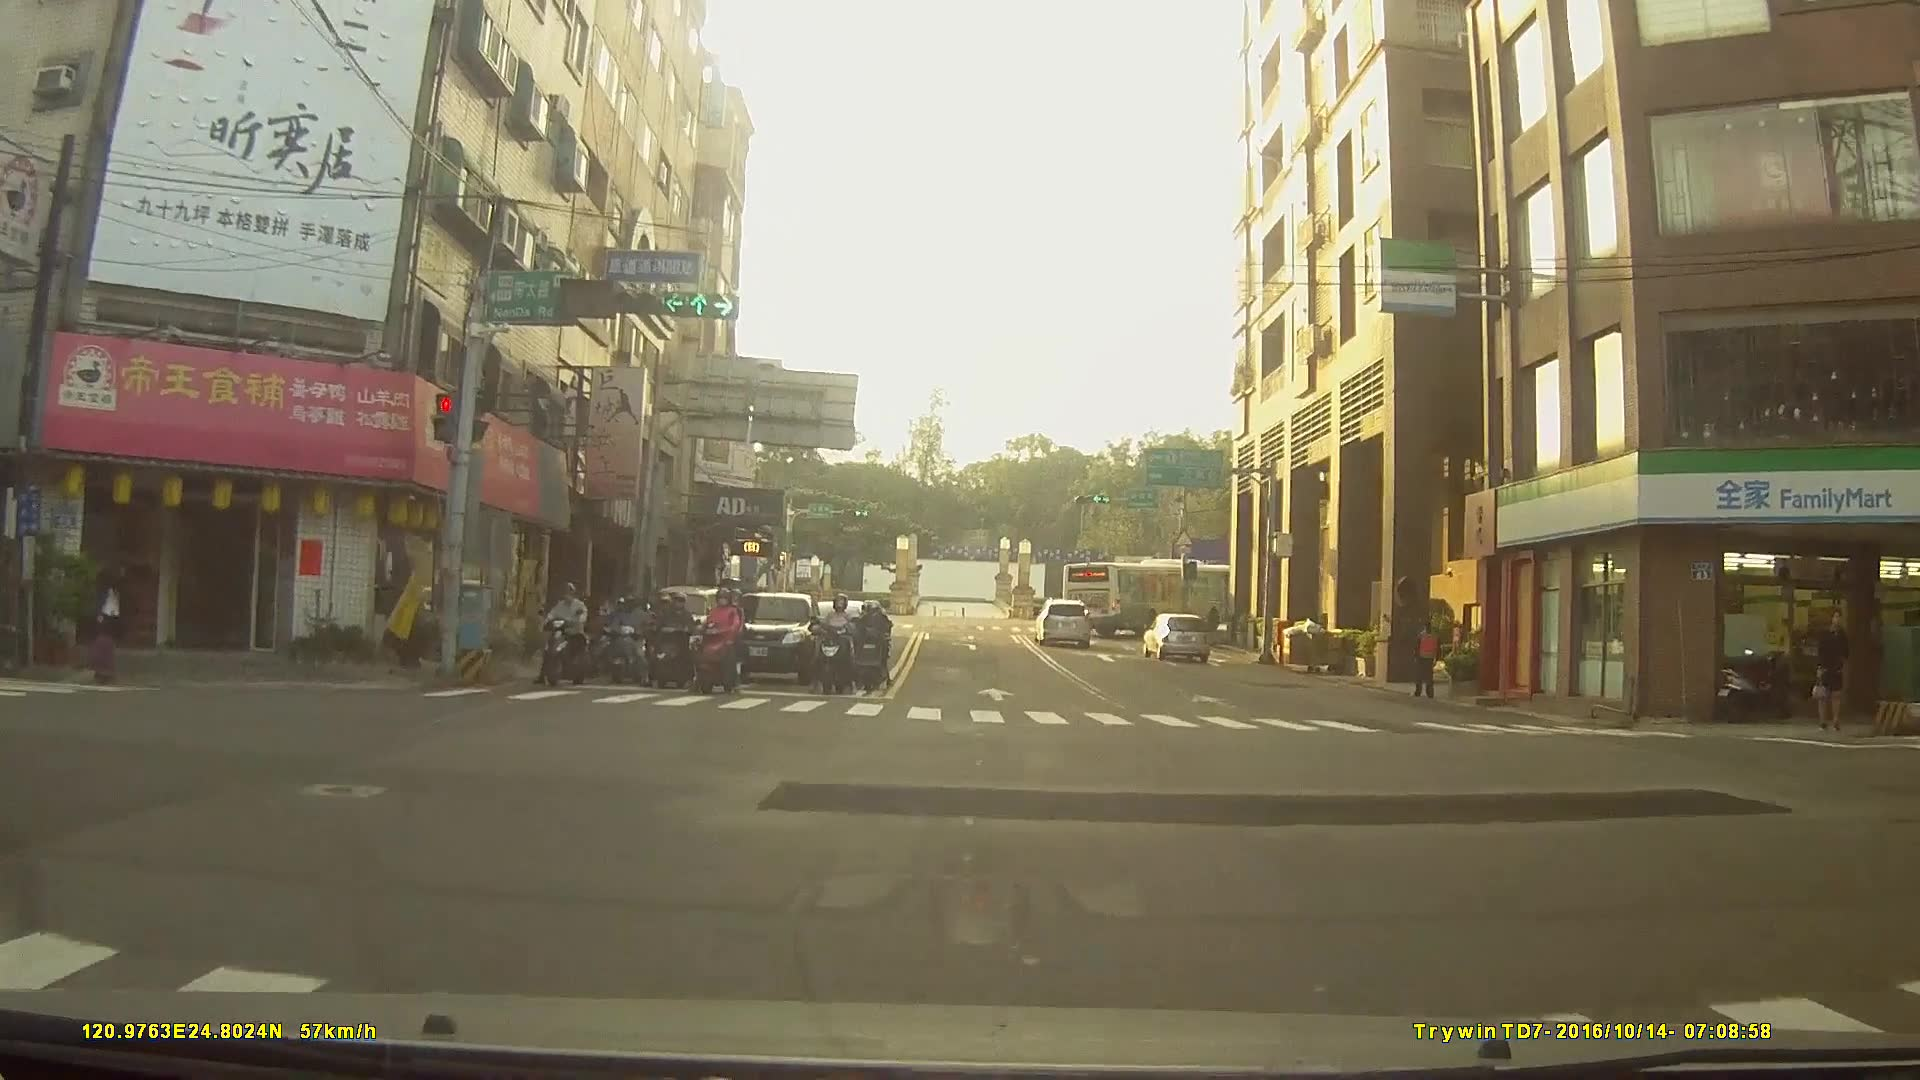pedestrian: (1813, 604, 1859, 736), (87, 558, 128, 698), (1411, 625, 1443, 700)
rider: (690, 588, 750, 703), (541, 585, 593, 689), (815, 595, 859, 697), (649, 596, 691, 694), (597, 602, 642, 693), (853, 610, 895, 699)
vehicle: (1060, 562, 1234, 638), (709, 591, 821, 687), (1142, 613, 1213, 663), (1032, 598, 1091, 649)
